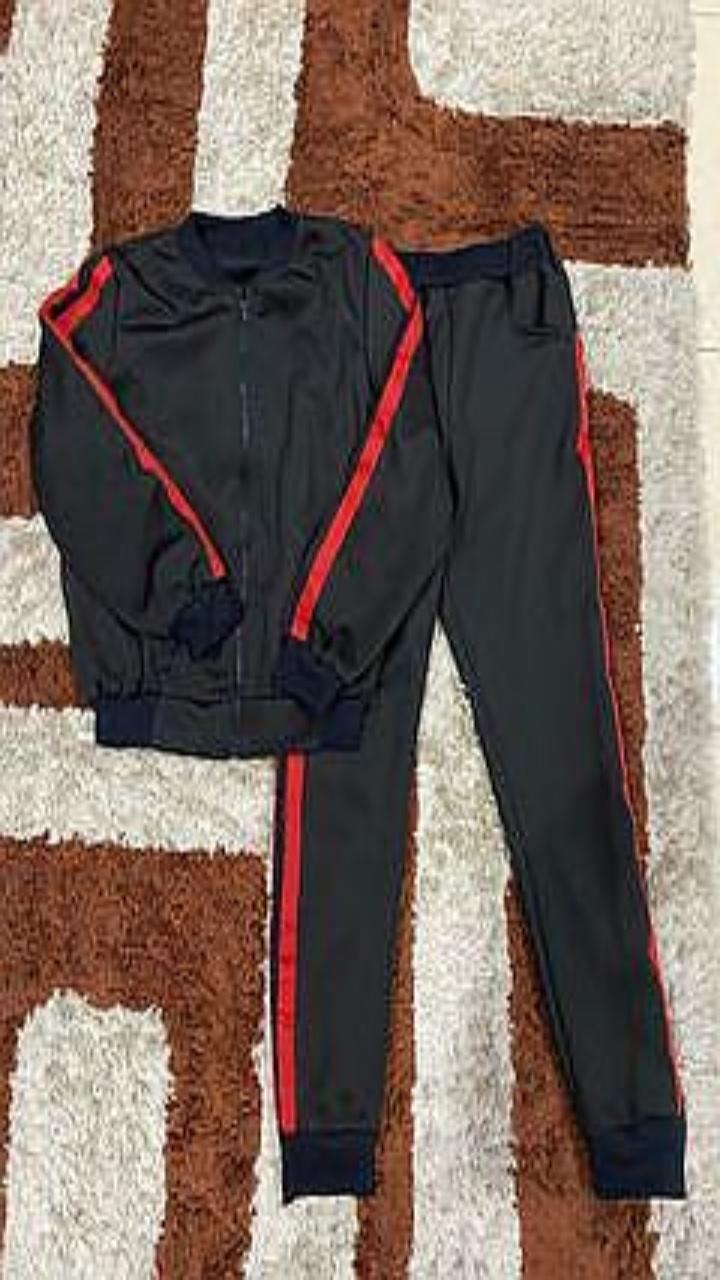Sports_Jacket: (30, 205, 451, 755)
